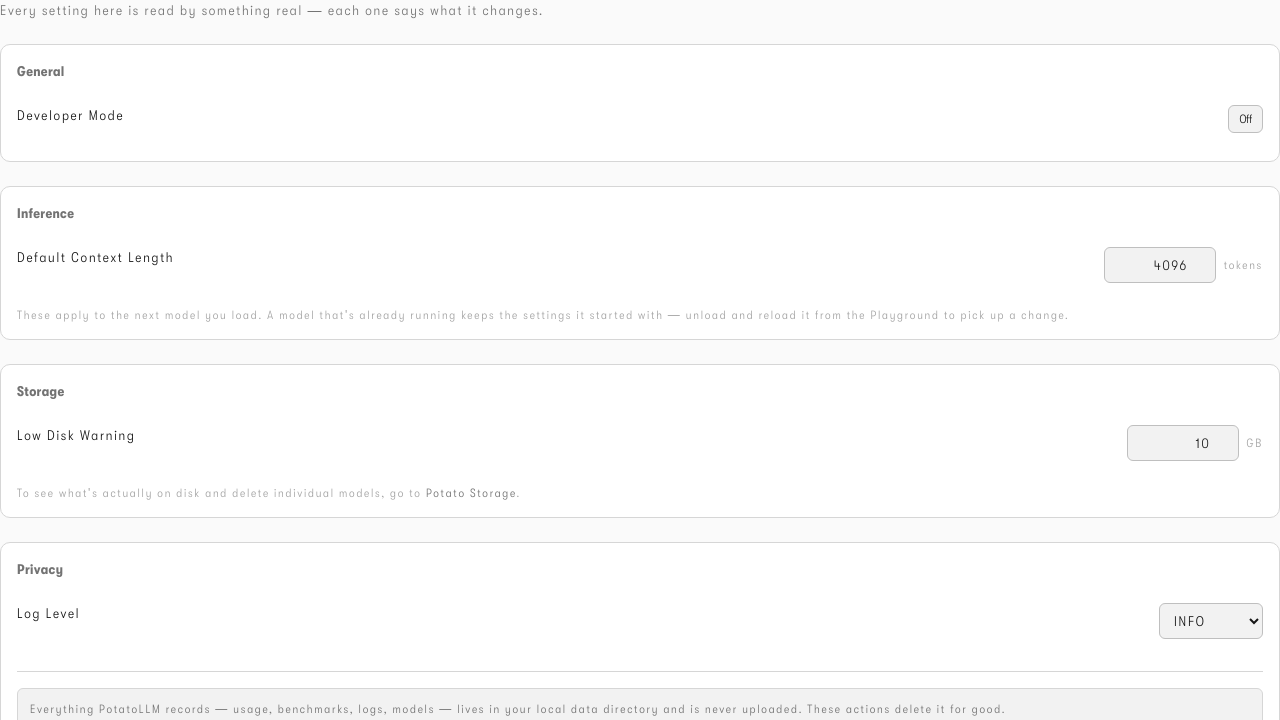
Settings page › surfaces a validation error from the server instead of pretending it saved
Click the switch named "Developer Mode" at (1246, 119), box [1228,105,1263,133]
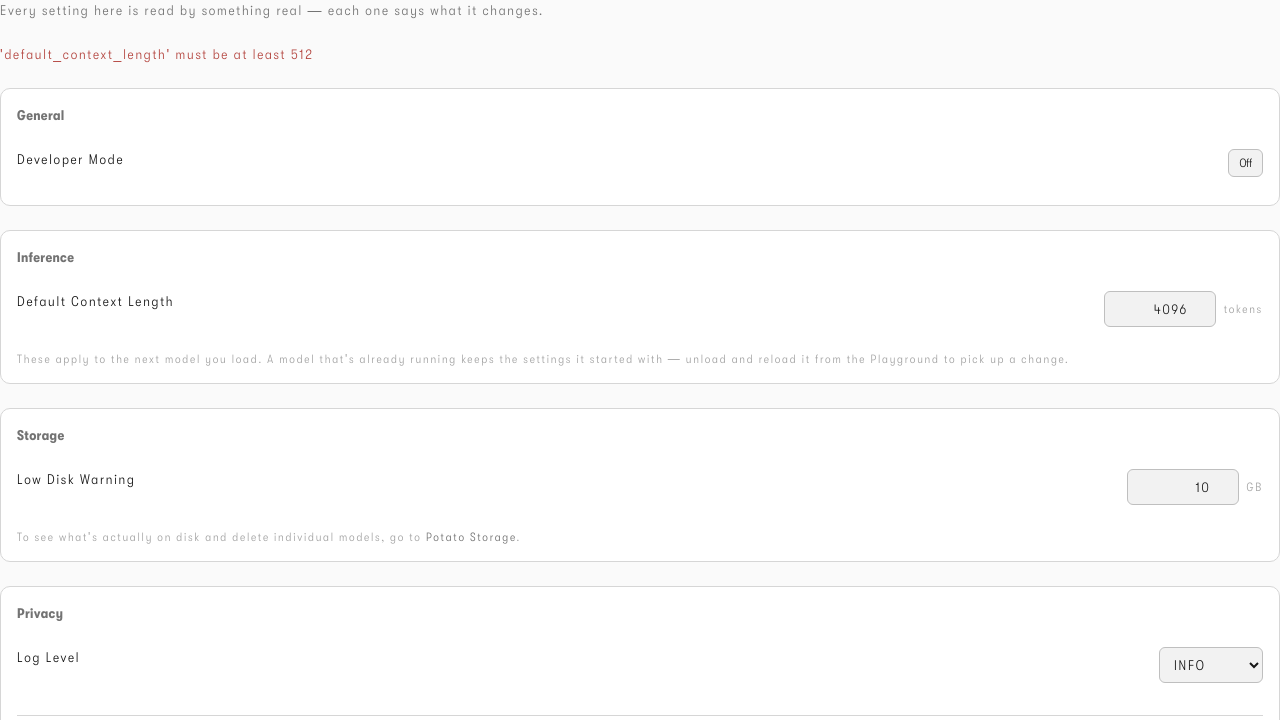
Check: the text "'default_context_length' must be at least 512" is shown, box [0,46,314,62]
